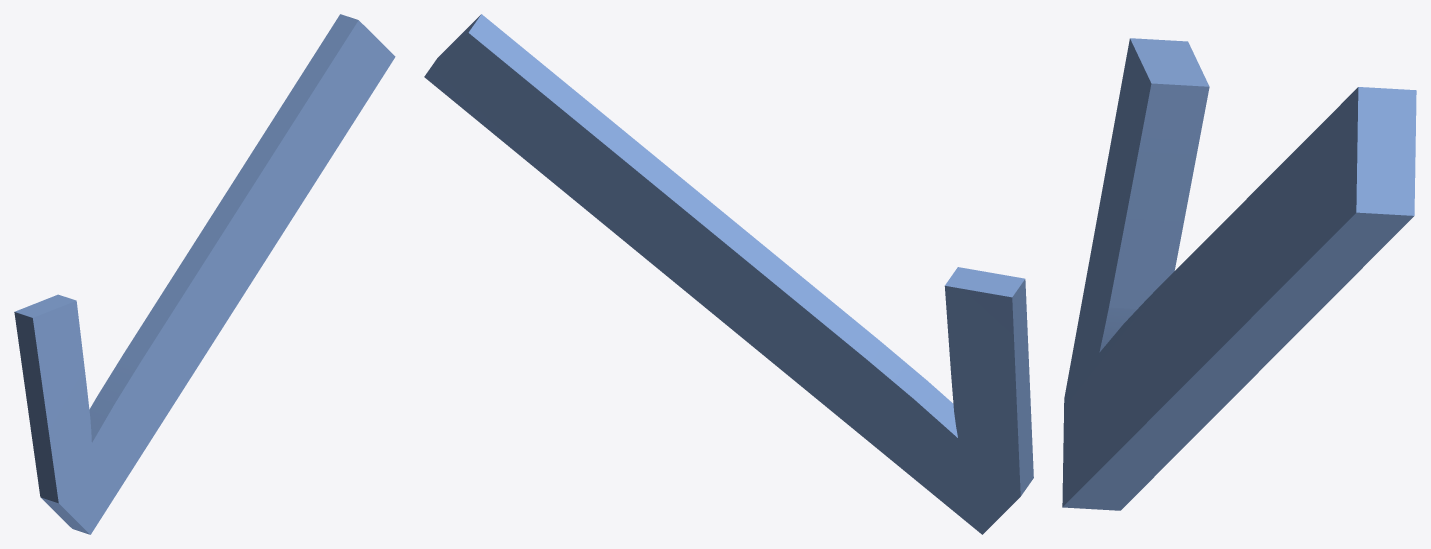
Rendered from New_Number_1.gltf.
3 renders of one model, left to right at view 1: azimuth 30°, elevation 25°; view 2: azimuth 150°, elevation 25°; view 3: azimuth 270°, elevation 25°, orthographic. The views are drawn at different scales.
Parts seen in each view (by area): view 1: Part 415; view 2: Part 415; view 3: Part 415.
Part boxes in pixels (x1=…): Part 415: x1=14, y1=14, x2=395, y2=534; Part 415: x1=424, y1=14, x2=1033, y2=534; Part 415: x1=1062, y1=38, x2=1416, y2=510.
Size of the model in its own units: 0.00419 by 0.0036 by 0.00152.
